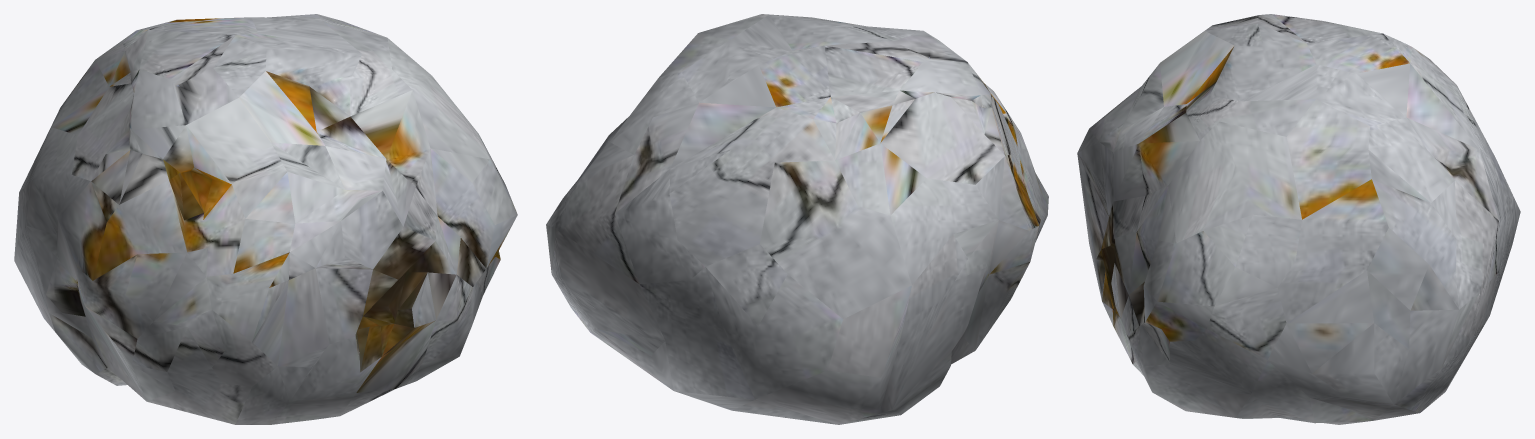
File: masso_granito.glb
3 renders of one model, left to right at view 1: azimuth 30°, elevation 25°; view 2: azimuth 150°, elevation 25°; view 3: azimuth 270°, elevation 25°, orthographic. The views are drawn at different scales.
Visible parts, largest first — view 1: Mesh_0.006; view 2: Mesh_0.006; view 3: Mesh_0.006.
Part boxes in pixels (x1,y1,x2,y2): Mesh_0.006: (14,14,517,424); Mesh_0.006: (546,14,1048,424); Mesh_0.006: (1077,14,1520,424).
Size of the model in its own units: 1.91 by 1.53 by 1.89.
Materials: 1 (1 with a texture image).
